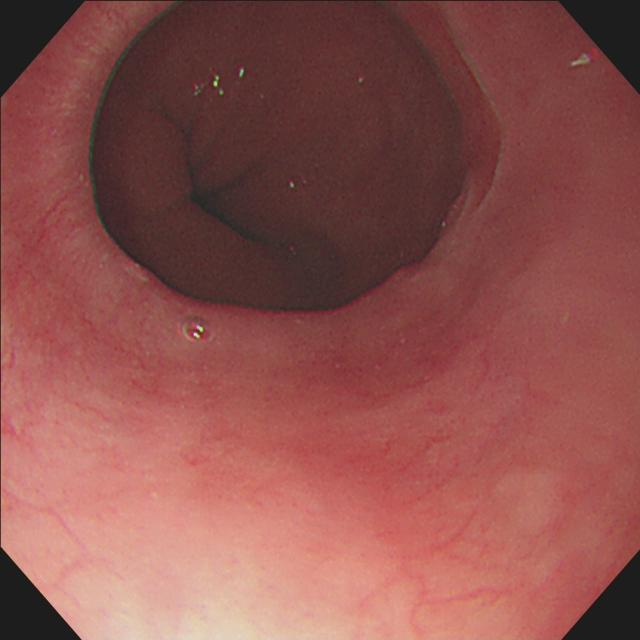E: (124, 2, 640, 362)
T: (236, 362, 291, 403)
